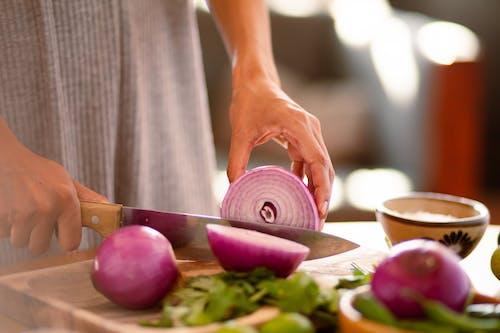knife: (78, 199, 363, 264)
